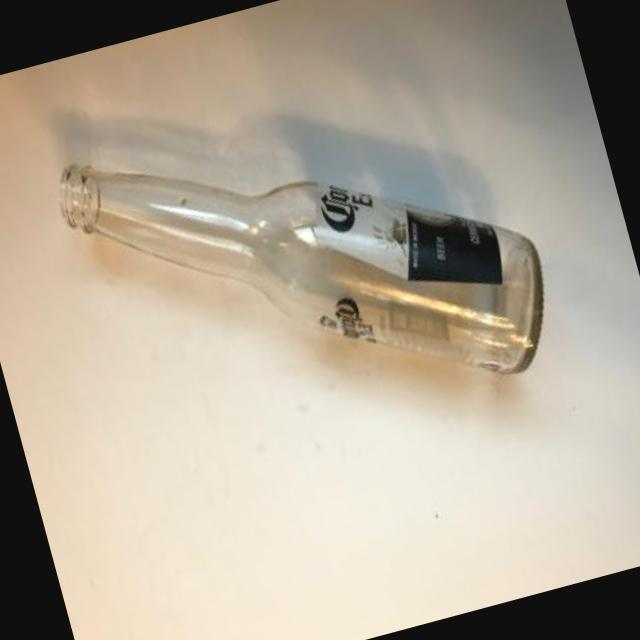chai_thuy_tinh: (60, 163, 545, 374)
